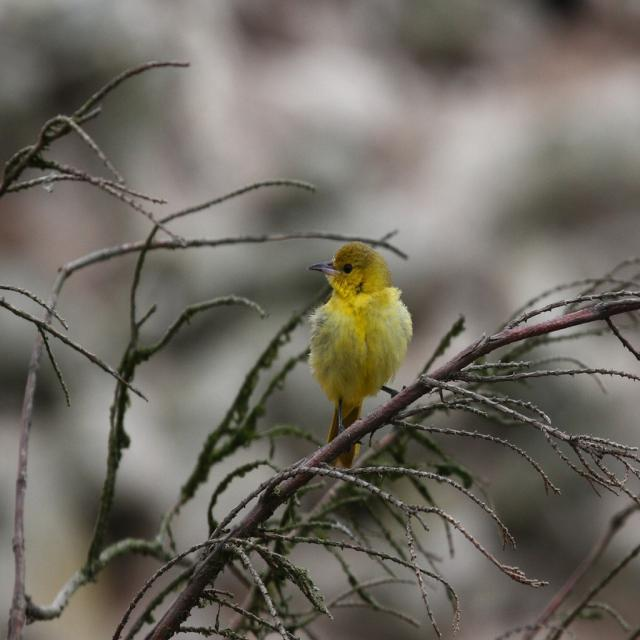bird: (304, 233, 415, 490)
